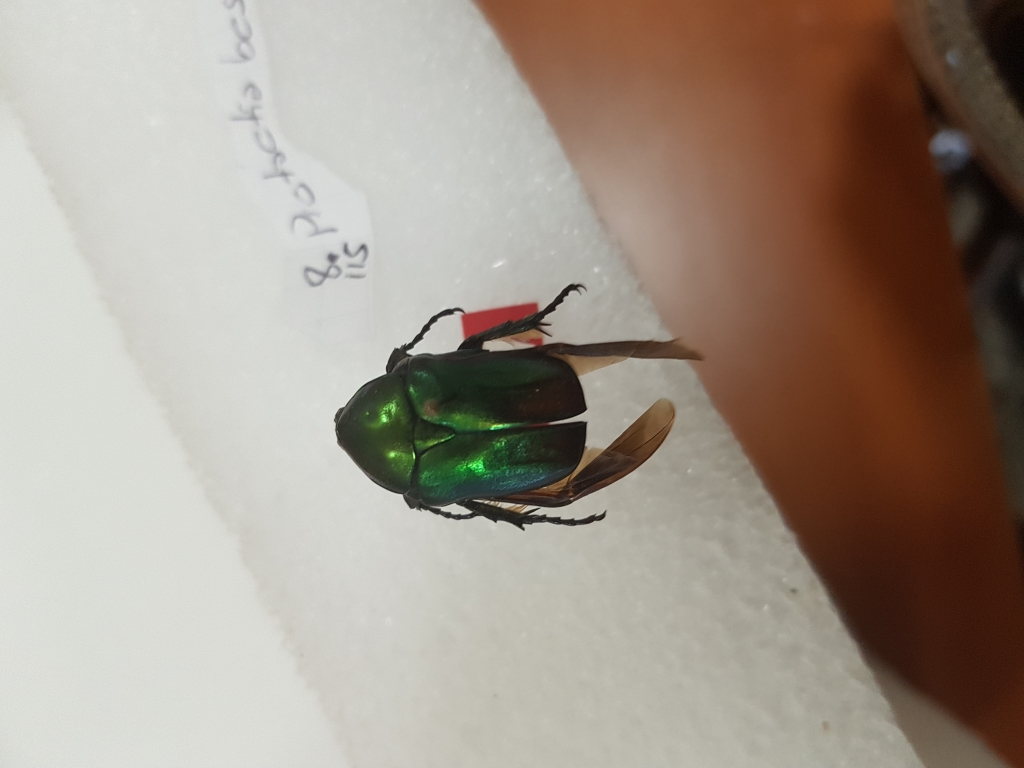Protaetia_besucheti: (328, 274, 705, 539)
